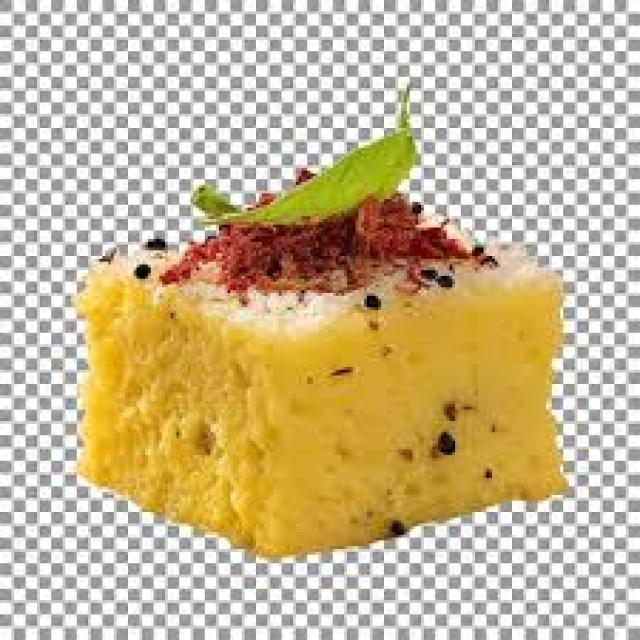DHOKLA: (75, 210, 559, 554)
